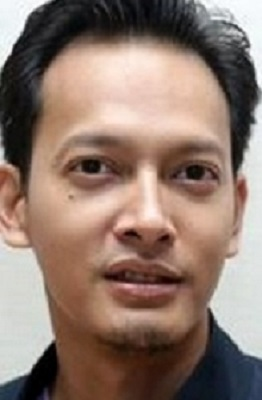tahilalat: (66, 192, 76, 202)
